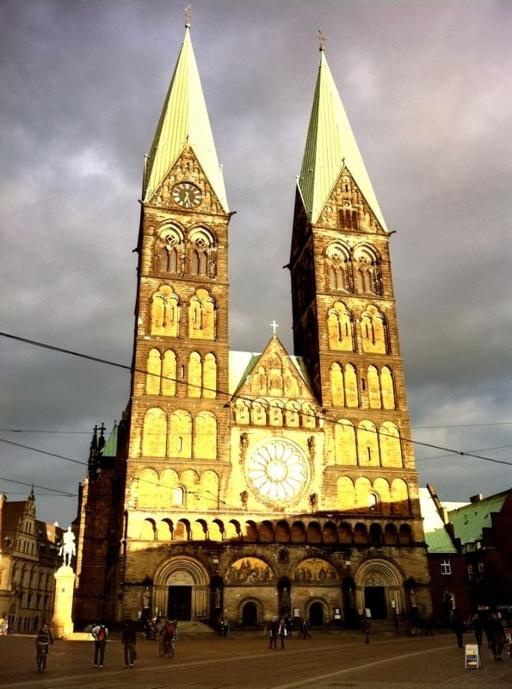non-vehicle: (34, 639, 50, 673), (157, 632, 174, 658)
